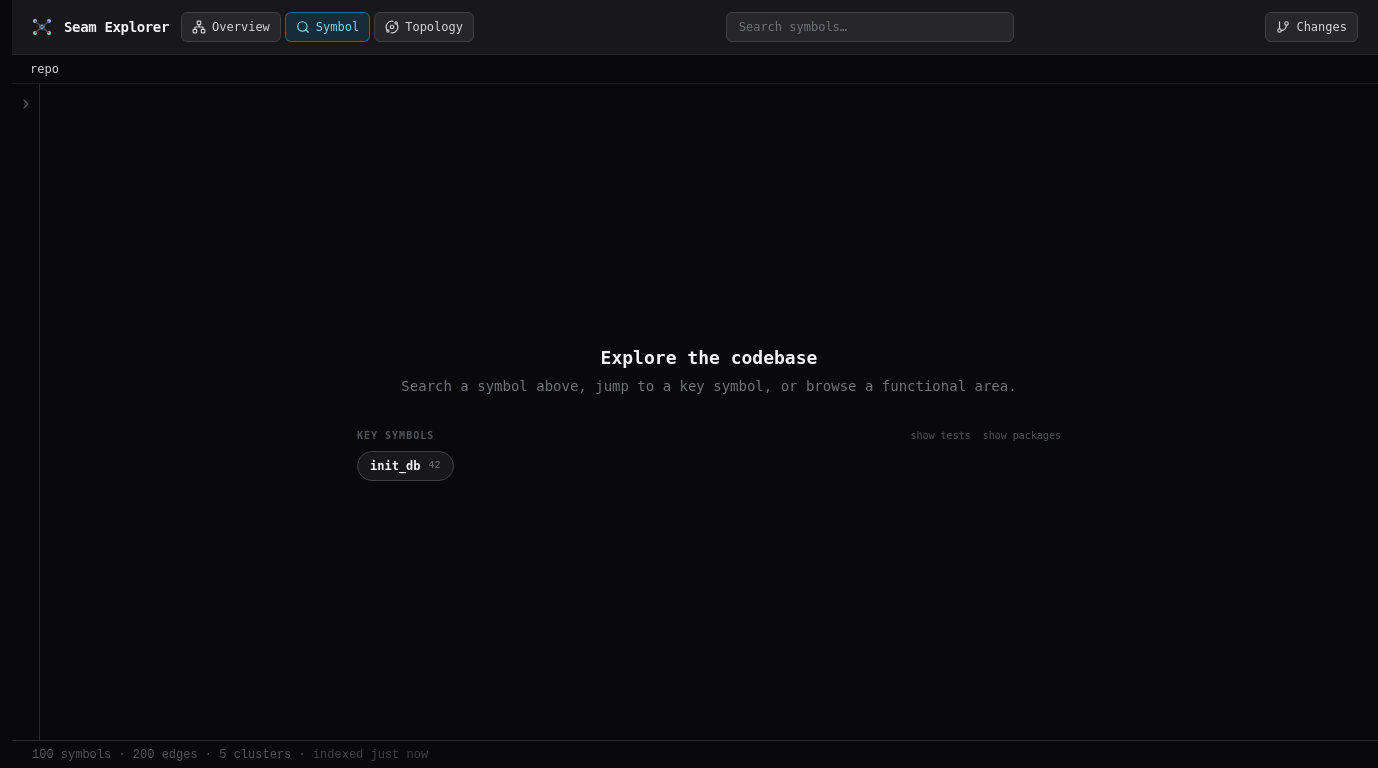
Test: LandingPage – show packages toggle (#287) › P6: show_tests and show_packages toggles coexist independently
Expected: the text "init_db" is shown, [370,458,421,474]
Expected: the button "show packages" is shown, [983,428,1061,442]
Click the button "show tests" at (941, 435), box [910,428,971,442]
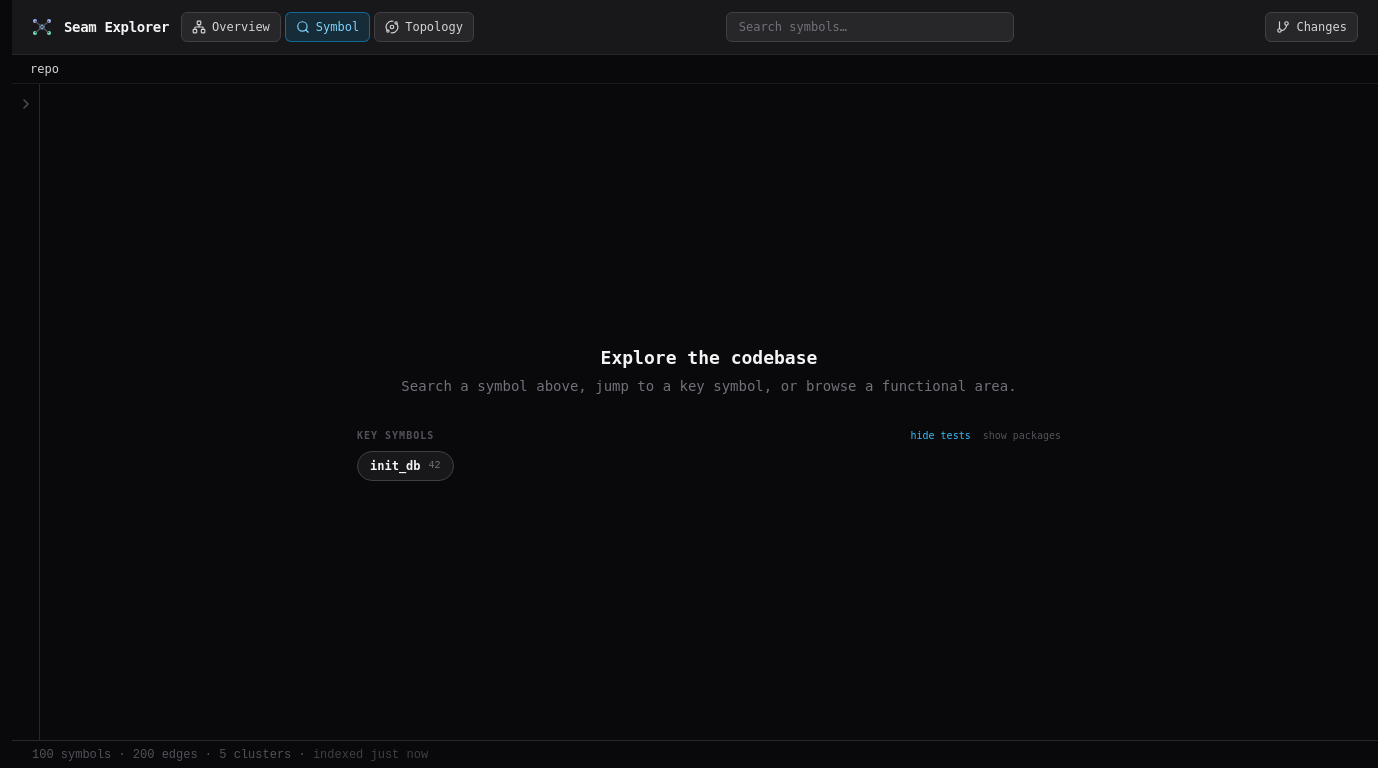
Expected: the button "show packages" is shown, [983,428,1061,442]
Now the button "hide tests" is shown, box [910,428,971,442]
